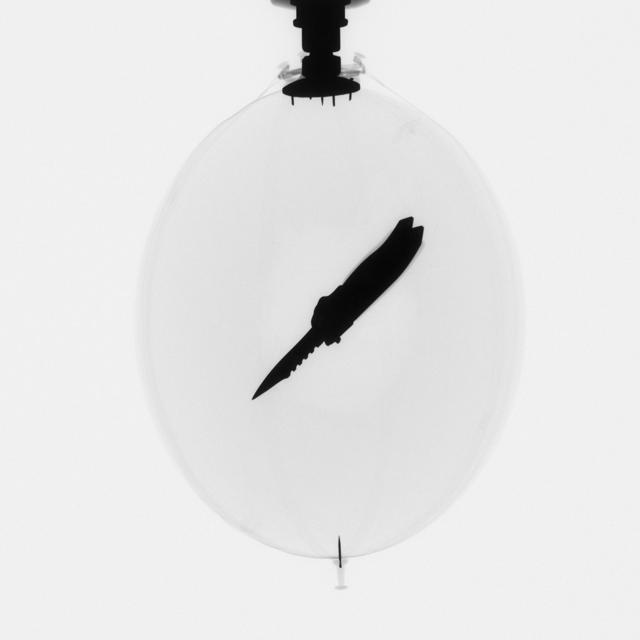knife: (239, 205, 432, 413)
